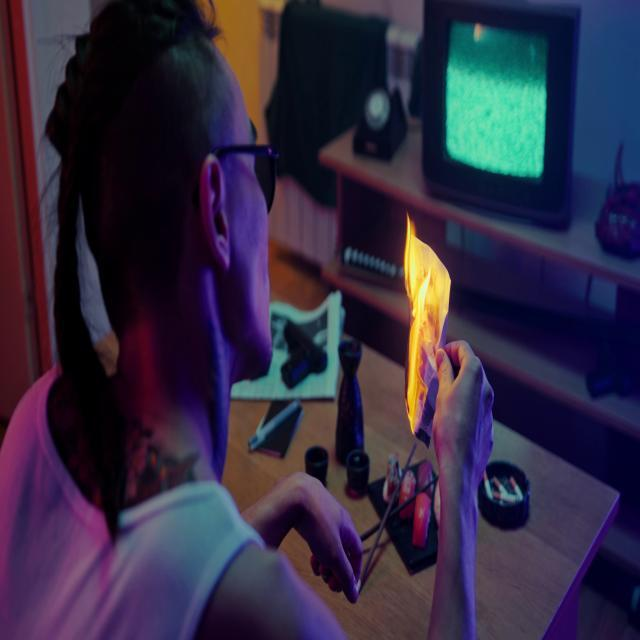Fire: (398, 212, 434, 439)
